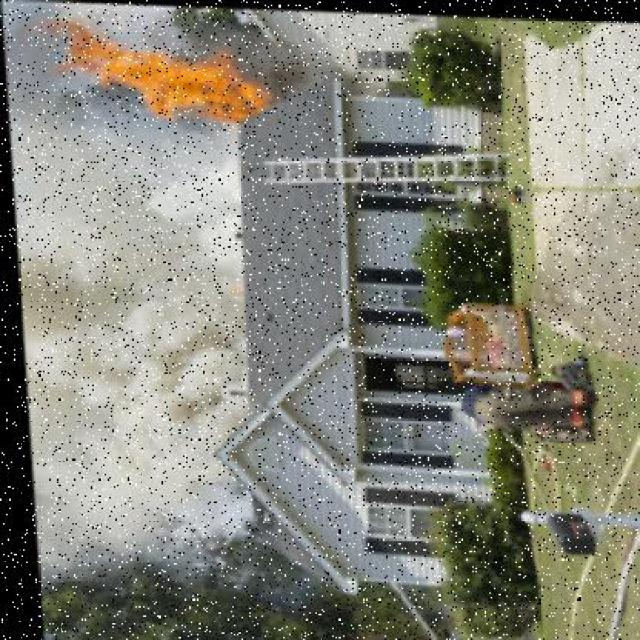fire: (53, 20, 272, 131)
